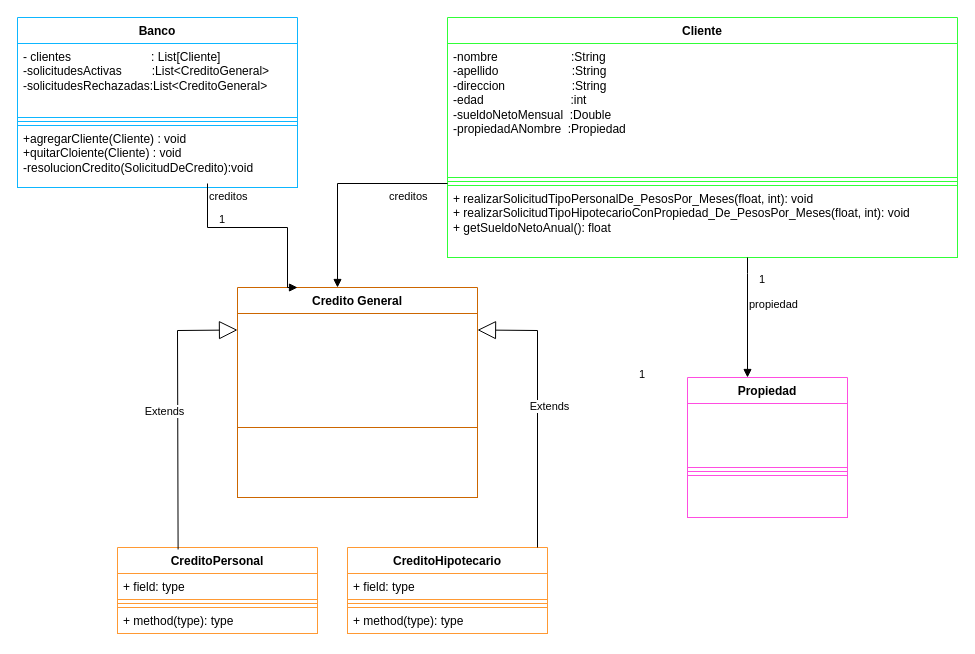
Image size: 975x654. Some labels were removed from this diagram. The shapes that lost their labels are listed below. From the top down, each one's centre as x and y in pixels, then its label:
the point at 357,370: -solicitante : Cliente -montoAPrestar : Double -plazoASerDevuelto : int
the point at 767,435: -descripsion : String -direccion : String -valorFiscal : Double
the point at 357,462: +solicitarAlBanco(_ , Double , int) : void
the point at 767,496: -getValorFiscal():Double.
